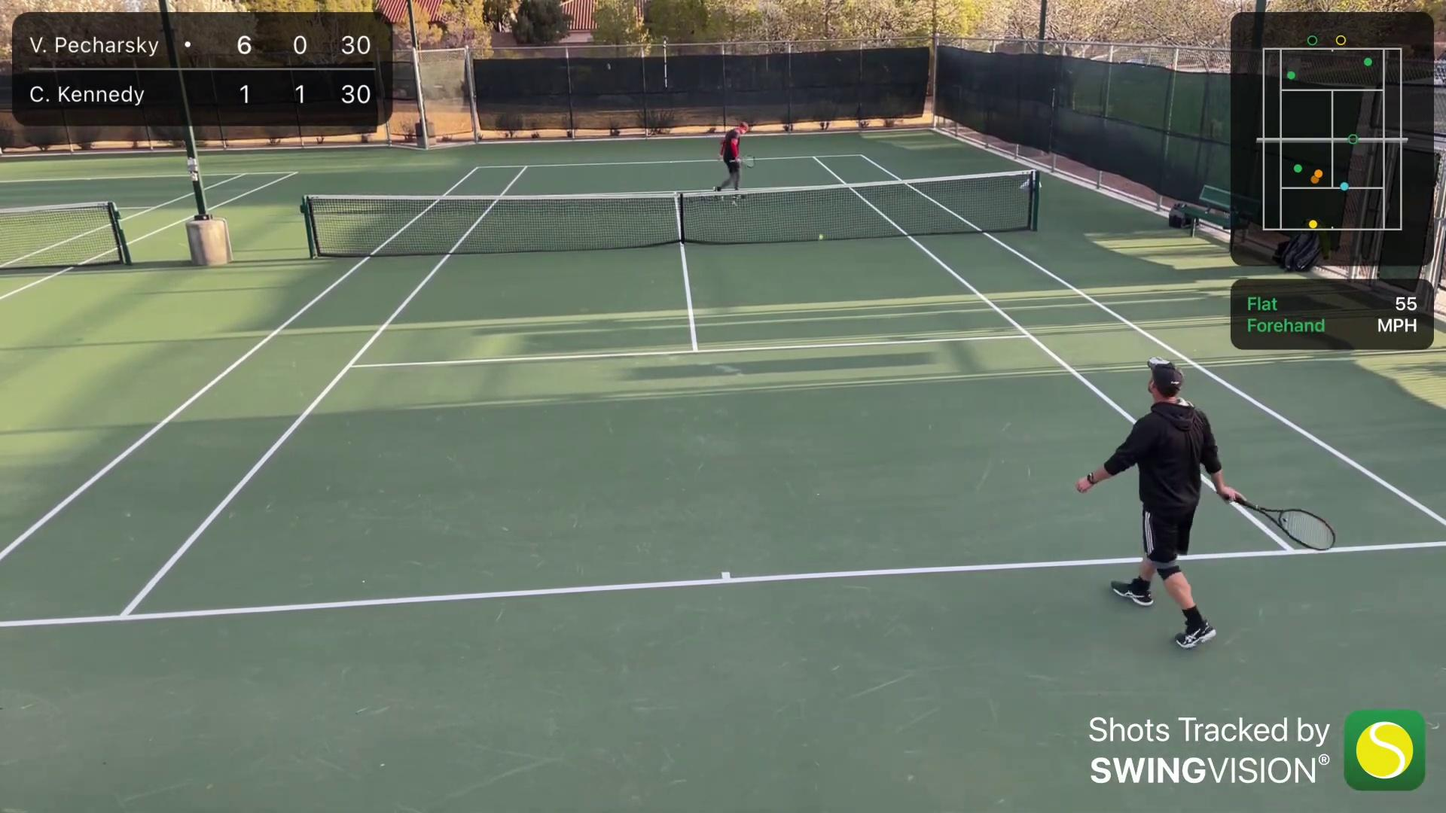ball: (818, 233, 825, 240)
